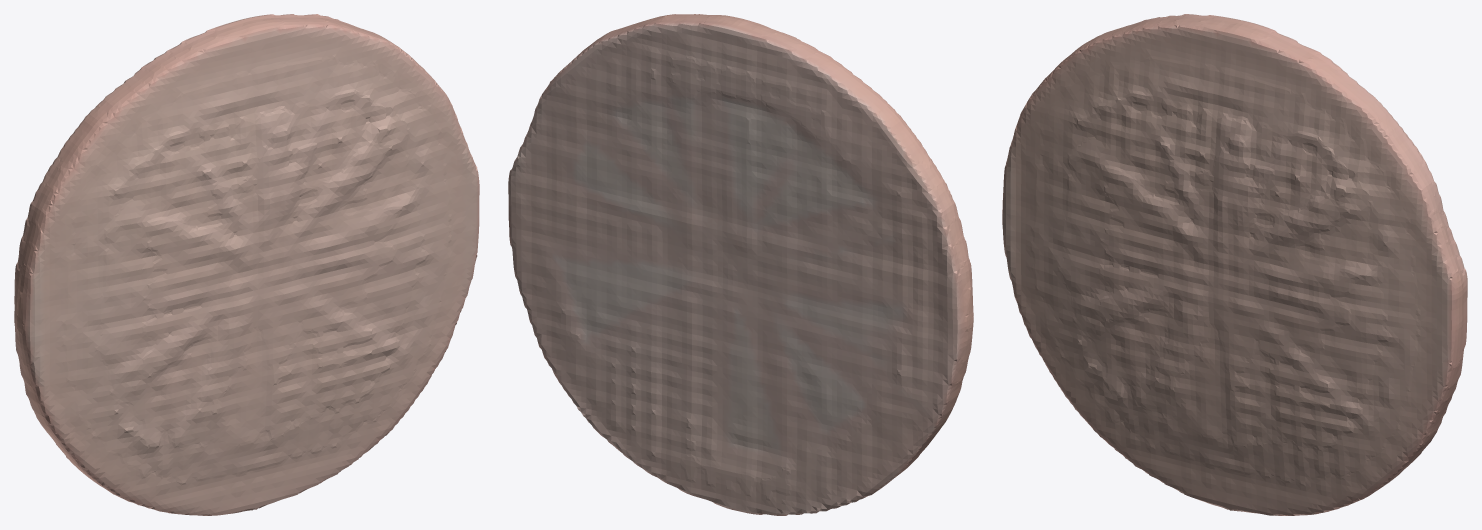
The model's file is tomato.glb.
3 views of the same model, side by side, from view 1: azimuth 30°, elevation 25°; view 2: azimuth 150°, elevation 25°; view 3: azimuth 330°, elevation 25° (orthographic).
Visible parts, largest first — view 1: geometry_0; view 2: geometry_0; view 3: geometry_0.
Boxes of the visible parts, left/top/right/bottom form: geometry_0: left=14, top=14, right=479, bottom=515; geometry_0: left=508, top=14, right=973, bottom=515; geometry_0: left=1002, top=14, right=1467, bottom=515.
Size of the model in its own units: 1.49 by 1.5 by 0.1604.
